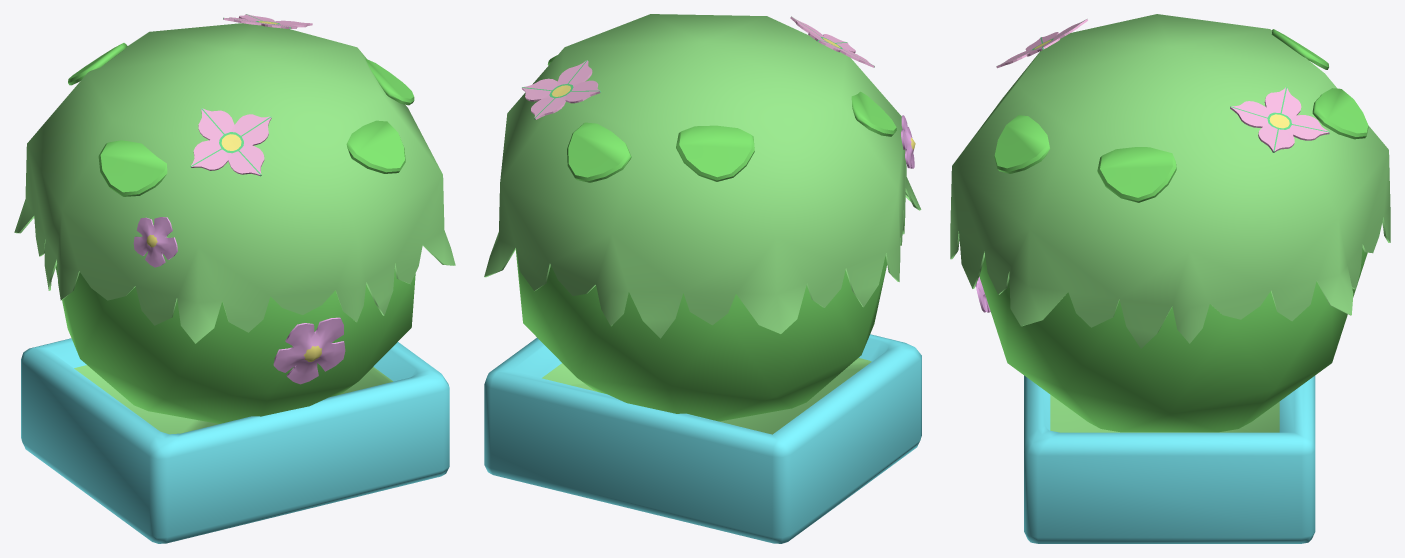
Rendered from Plant1.fbx.
3 renders of one model, left to right at view 1: azimuth 30°, elevation 25°; view 2: azimuth 150°, elevation 25°; view 3: azimuth 270°, elevation 25°, orthographic. The views are drawn at different scales.
Parts seen in each view (by area): view 1: Plant.001; view 2: Plant.001; view 3: Plant.001.
Boxes of the visible parts, left/top/right/bottom form: Plant.001: left=14, top=14, right=455, bottom=543; Plant.001: left=484, top=14, right=921, bottom=543; Plant.001: left=950, top=14, right=1390, bottom=543.
Bounding box in the file's own units: 4.2 × 4.46 × 4.2.
